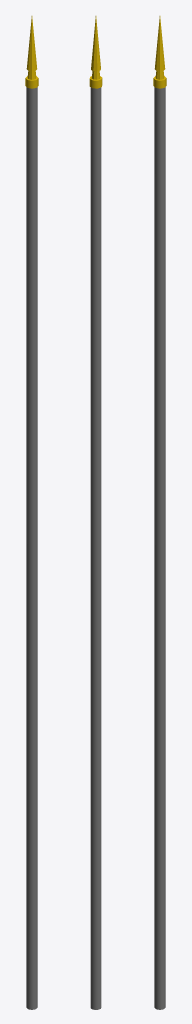
File: Flag_Pole_04.fbx
3 renders of one model, left to right at view 1: azimuth 90°, elevation 25°; view 2: azimuth 150°, elevation 25°; view 3: azimuth 270°, elevation 25°, orthographic.
Parts seen in each view (by area): view 1: Flag_Pole_04; view 2: Flag_Pole_04; view 3: Flag_Pole_04.
Part boxes in pixels (bbox=[...]): Flag_Pole_04: bbox=[25, 16, 38, 1009]; Flag_Pole_04: bbox=[89, 16, 102, 1009]; Flag_Pole_04: bbox=[153, 16, 166, 1009].
Size of the model in its own units: 1.4 by 116 by 1.4.
